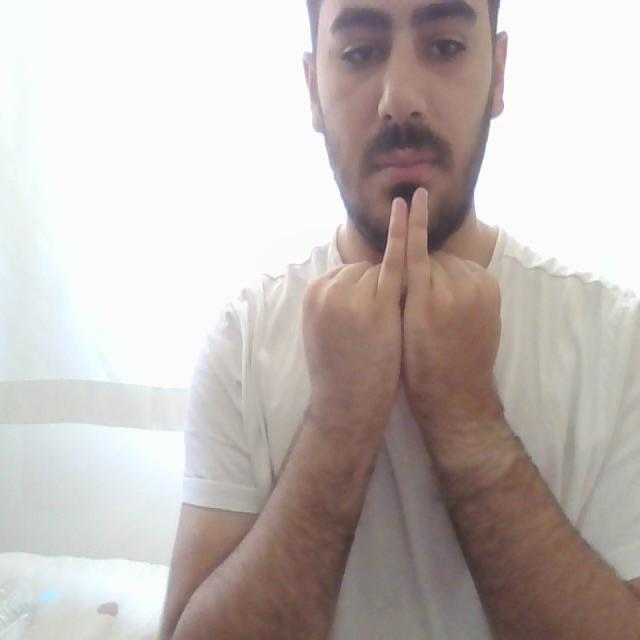Kardes: (300, 178, 503, 441)
